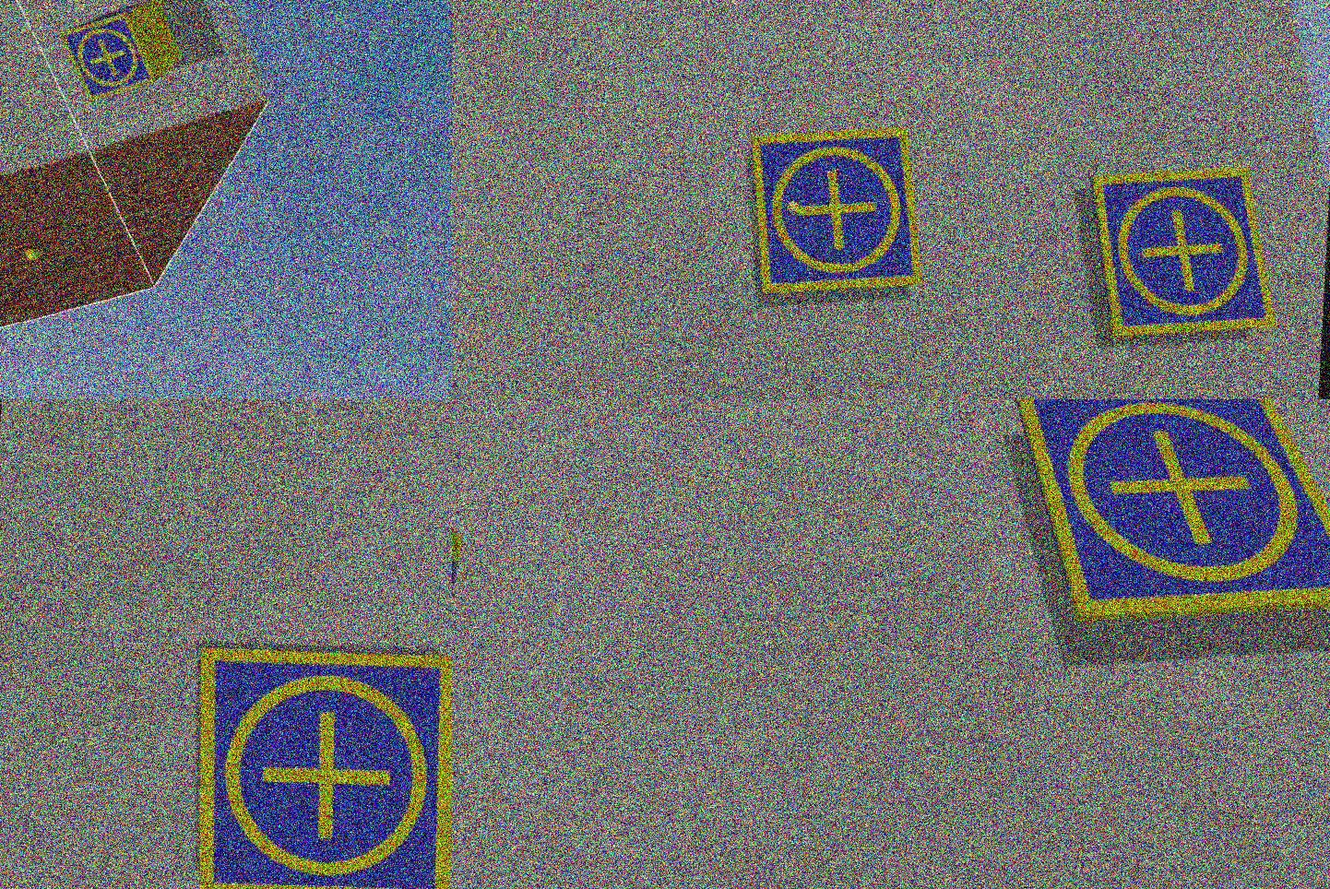small_base: (1000, 400, 1330, 639), (183, 639, 453, 889), (1083, 163, 1288, 352), (748, 122, 932, 308), (61, 11, 160, 104)
